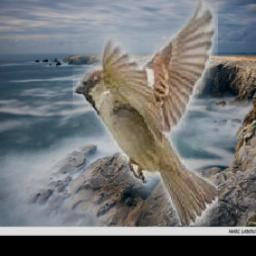Sparrow: (73, 0, 218, 227)
